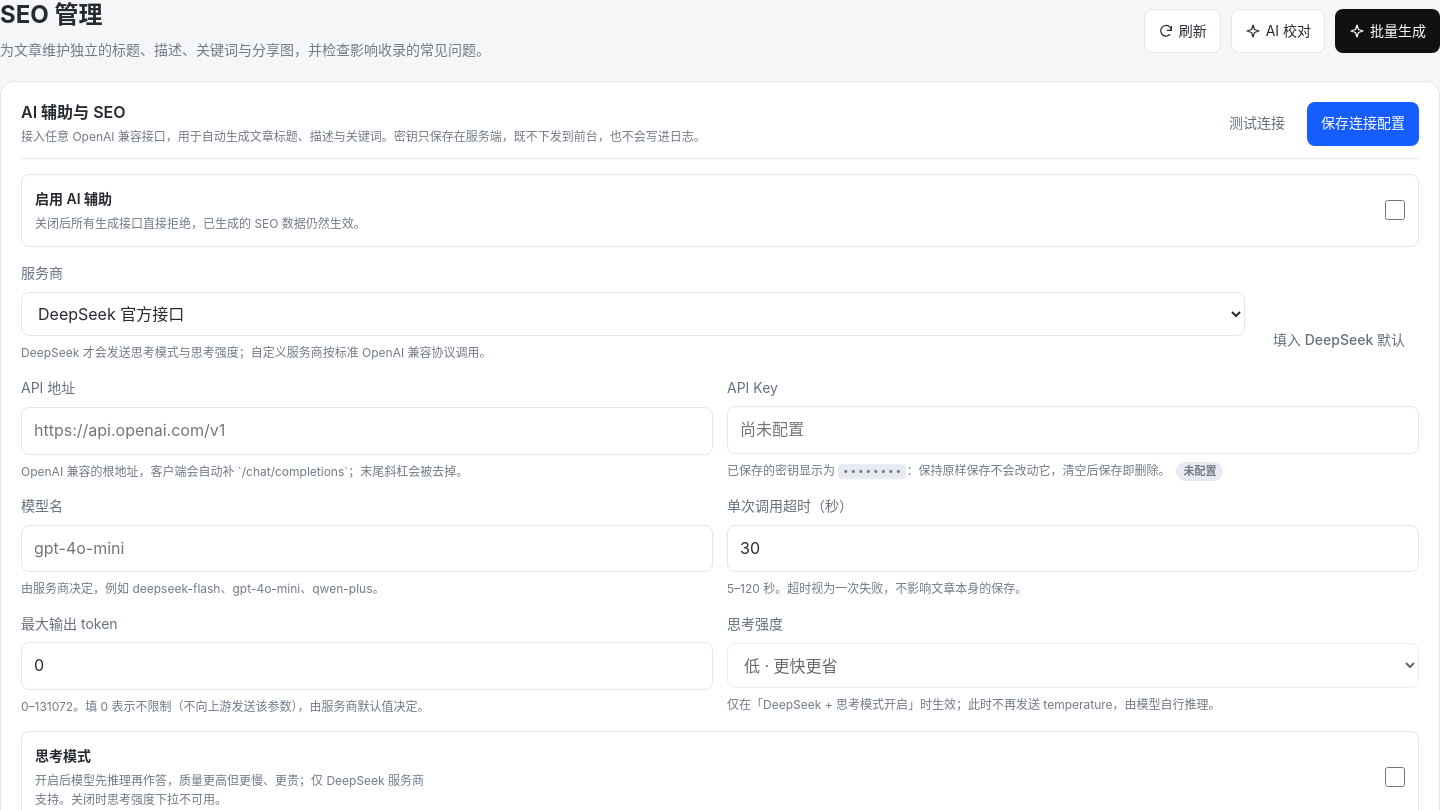
it: SEO admin page › renders proofread issues with type and severity without touching the article
Click the button "AI 校对": {"x": 1278, "y": 31} [1231, 9, 1325, 53]
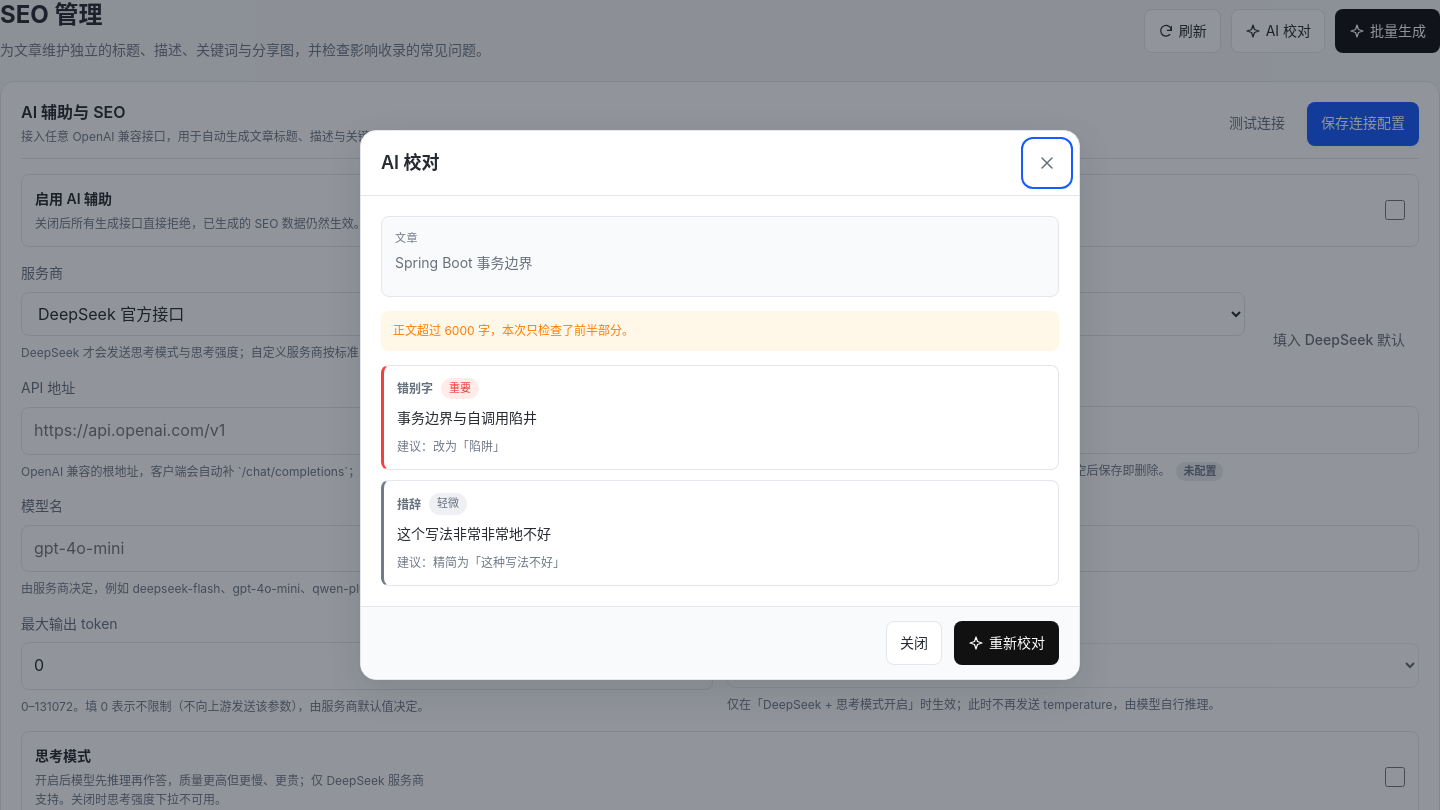
Check: the number of list items with class "issue-item" is 2, box [381, 365, 1059, 470]; [381, 480, 1059, 586]
Check: the text with class "issue-type" reads "错别字", box [397, 381, 433, 396]
Check: the text with class "issue-severity" reads "重要", box [449, 381, 471, 395]
